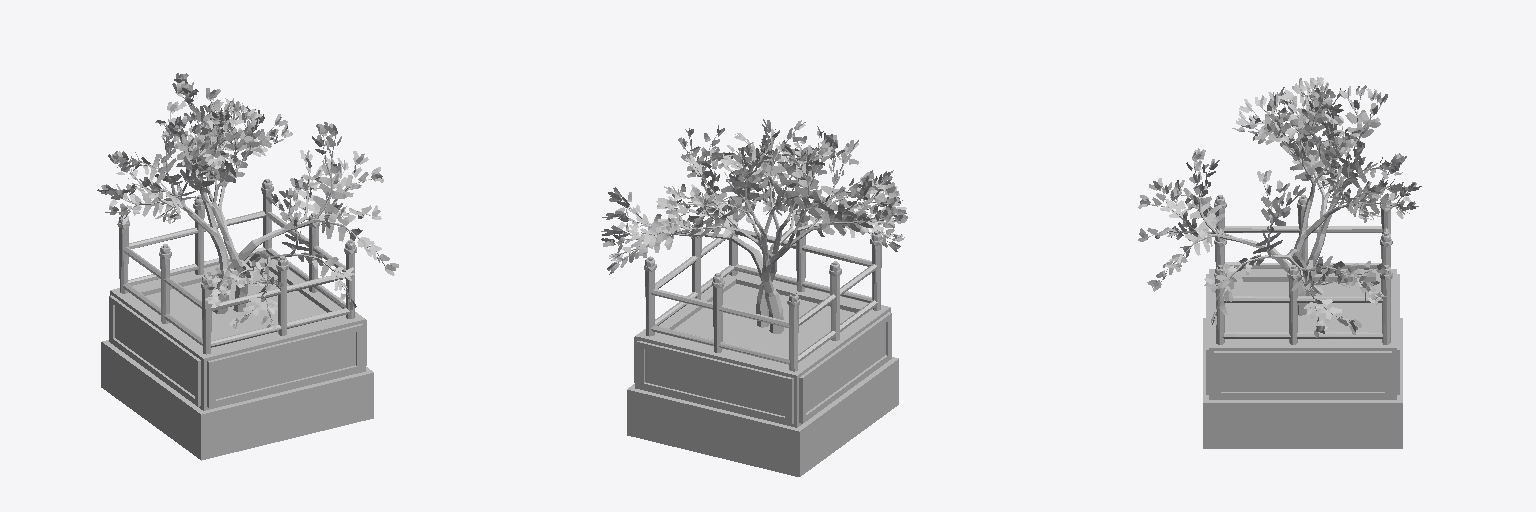
Rendered from decimatedplant0.5.obj.
3 views of the same model, side by side, from view 1: azimuth 30°, elevation 25°; view 2: azimuth 150°, elevation 25°; view 3: azimuth 270°, elevation 25° (orthographic).
Visible parts, largest first — view 1: objPlant.004; view 2: objPlant.004; view 3: objPlant.004.
Part boxes in pixels (x1,y1,x2,y2): objPlant.004: (97, 73, 398, 460); objPlant.004: (601, 119, 907, 476); objPlant.004: (1138, 77, 1421, 448).
Size of the model in its own units: 0.5649 by 0.5844 by 0.4797.